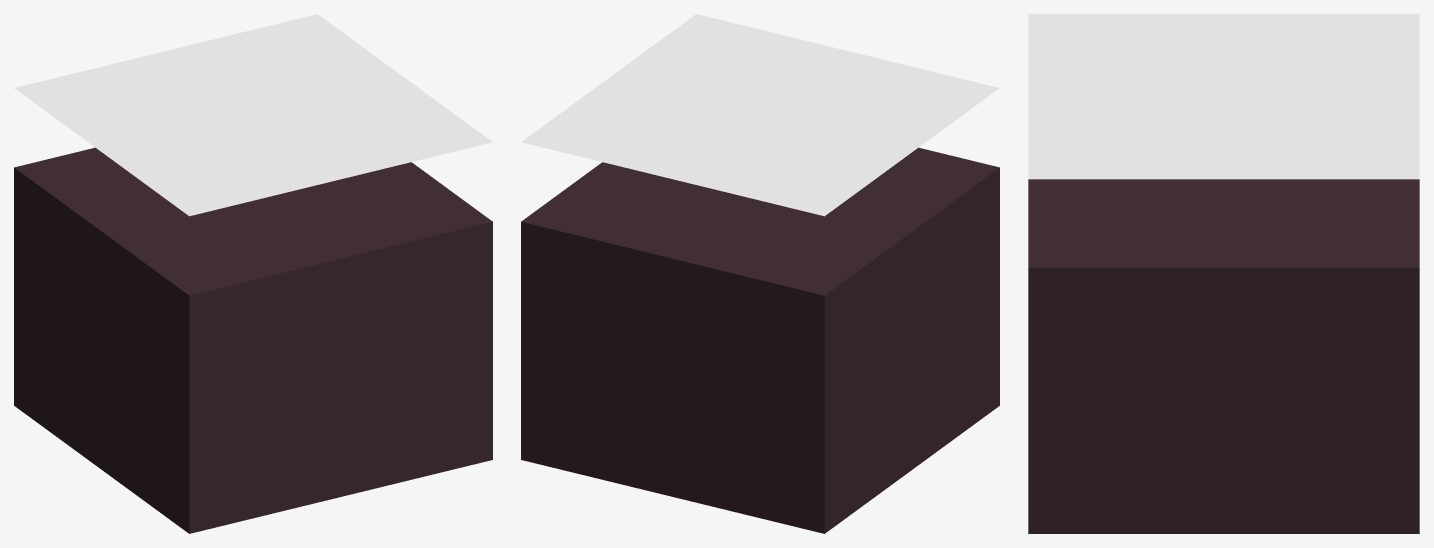
Rendered from waterOLD.dae.
3 views of the same model, side by side, from view 1: azimuth 30°, elevation 25°; view 2: azimuth 150°, elevation 25°; view 3: azimuth 270°, elevation 25° (orthographic). The views are drawn at different scales.
Parts seen in each view (by area): view 1: WaterDirt, Water; view 2: WaterDirt, Water; view 3: WaterDirt, Water.
Part boxes in pixels (bbox=[...]): WaterDirt: bbox=[14, 147, 492, 533]; Water: bbox=[14, 14, 492, 216]; WaterDirt: bbox=[521, 147, 999, 533]; Water: bbox=[521, 14, 999, 216]; WaterDirt: bbox=[1028, 179, 1419, 533]; Water: bbox=[1028, 14, 1419, 179].
Bounding box in the file's own units: 2 × 2 × 2.
